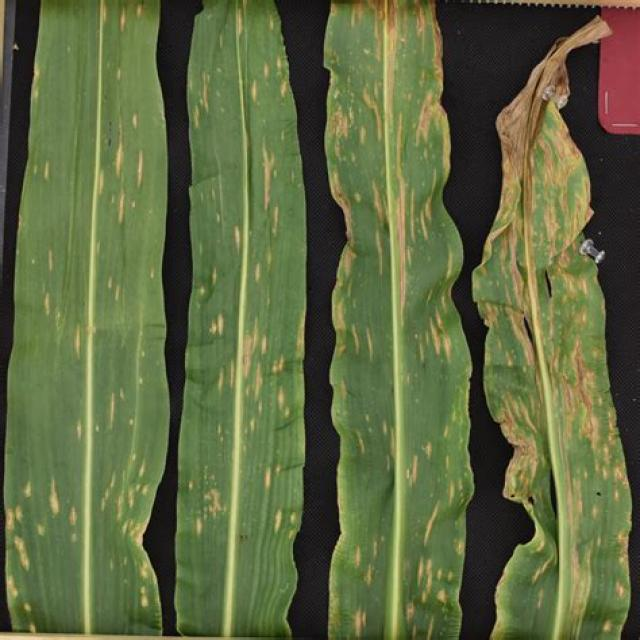blight: (351, 0, 433, 331), (527, 176, 584, 408)
